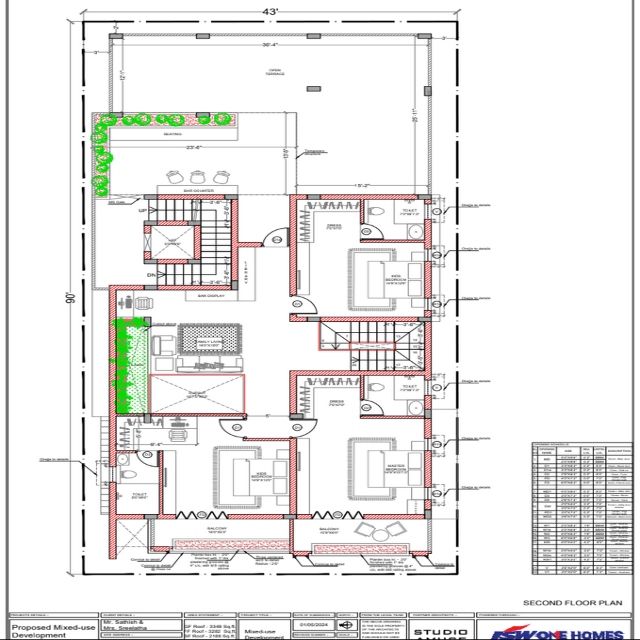door: (219, 417, 246, 439), (290, 295, 319, 315), (261, 227, 291, 246), (290, 419, 318, 439), (360, 398, 385, 417), (134, 451, 160, 468), (361, 222, 384, 240)
